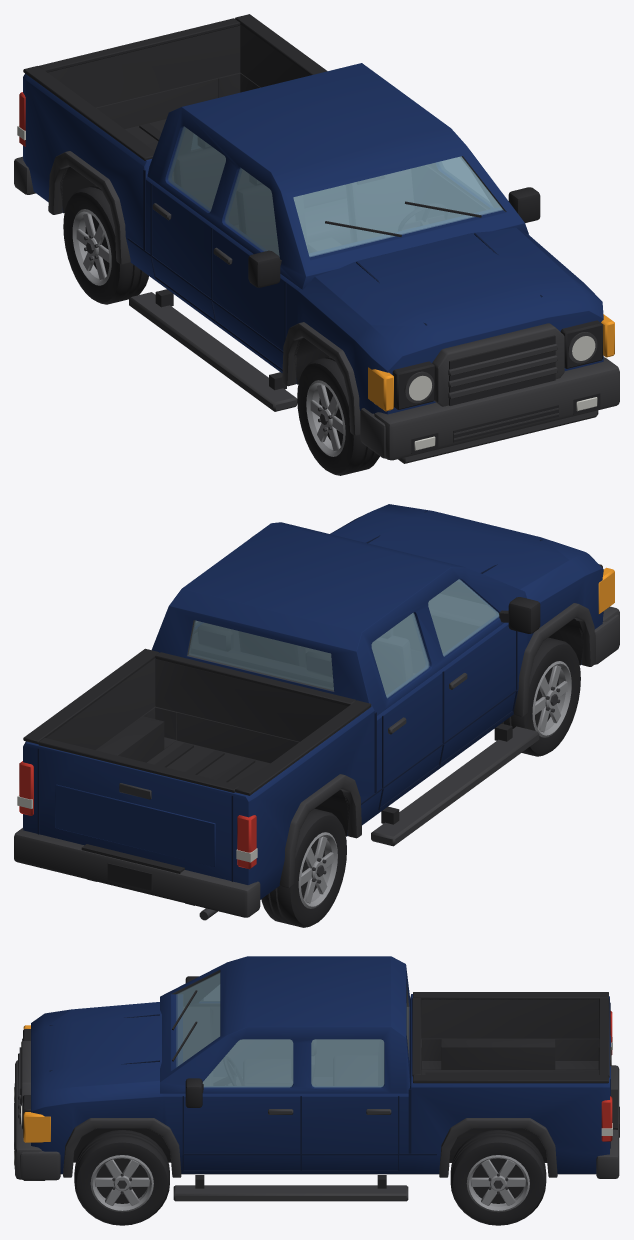
Rendered from Pickup.fbx.
3 renders of one model, top to bottom at view 1: azimuth 30°, elevation 25°; view 2: azimuth 150°, elevation 25°; view 3: azimuth 270°, elevation 25°, orthographic. The views are drawn at different scales.
Visible parts, largest first — view 1: Pickup_Mesh; view 2: Pickup_Mesh; view 3: Pickup_Mesh.
Part boxes in pixels (bbox=[...]): Pickup_Mesh: bbox=[14, 14, 619, 475]; Pickup_Mesh: bbox=[14, 504, 619, 927]; Pickup_Mesh: bbox=[14, 956, 619, 1225].
Size of the model in its own units: 2.32 by 1.85 by 5.32.
